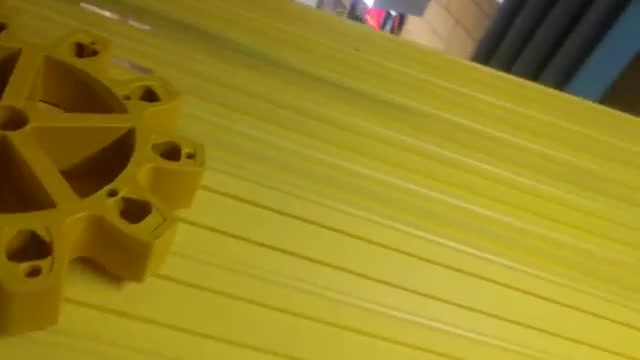gear: (1, 12, 211, 343)
